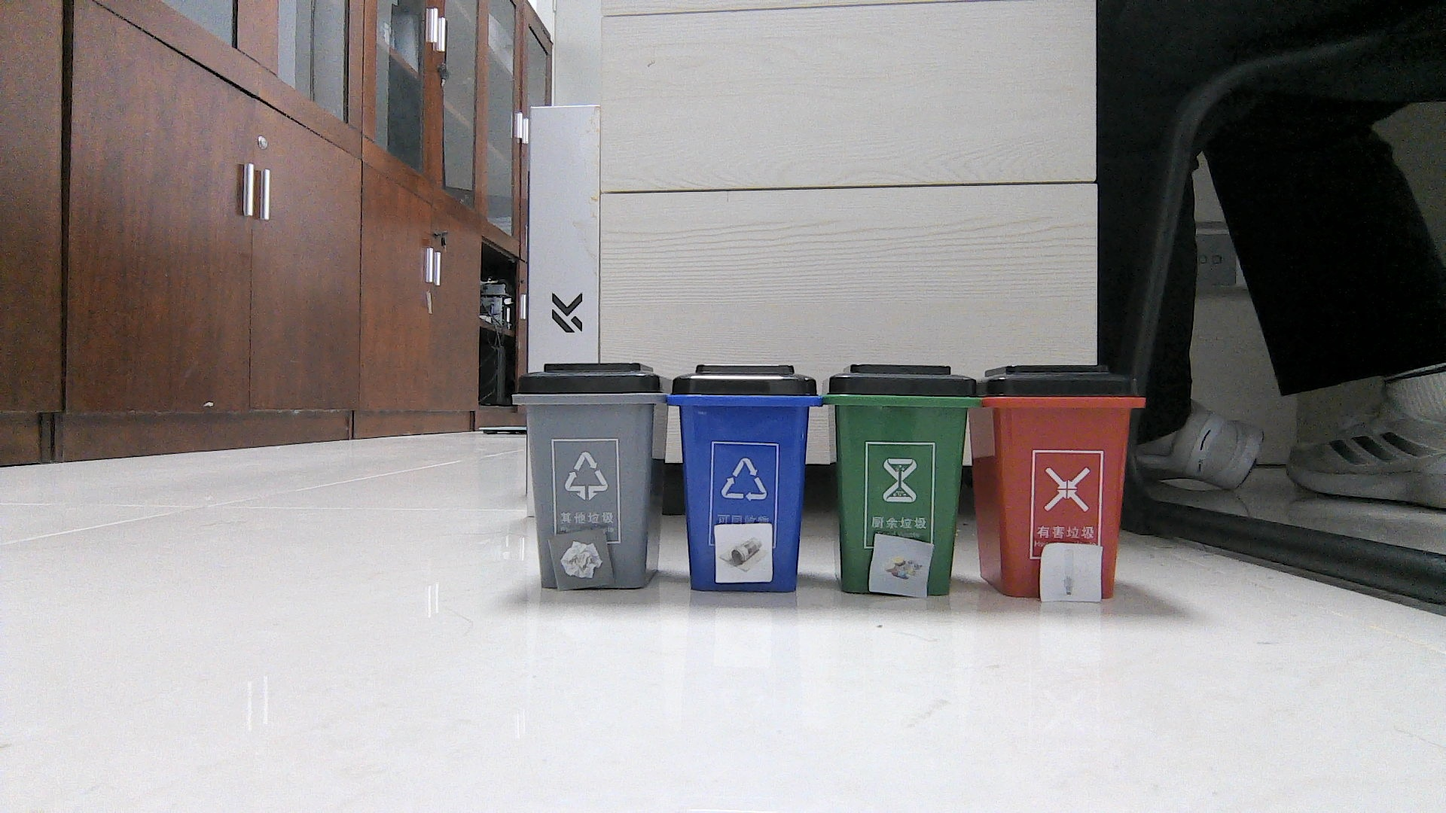hazardous_trash: (875, 539, 927, 593), (1044, 547, 1095, 598)
other_trash: (555, 538, 606, 585)
recyclable_trash: (718, 528, 769, 578)
